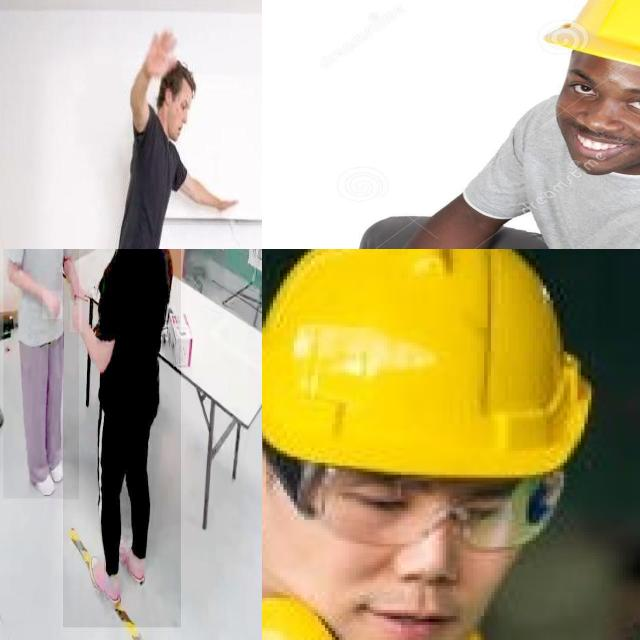Ear-protection: (262, 580, 532, 640)
No_Ear-Protection: (161, 81, 178, 114)
No_Glasses: (552, 60, 640, 130)
face_nomask: (173, 114, 196, 145)
glasses: (262, 425, 575, 556)
hand_noglove: (133, 28, 181, 85), (42, 290, 62, 320), (70, 279, 92, 304), (70, 300, 82, 334)
head_helmet: (262, 249, 603, 482)
person: (262, 249, 618, 640), (62, 249, 181, 628), (107, 27, 239, 249), (3, 249, 78, 499)
shoes: (109, 528, 150, 590), (87, 550, 124, 604), (27, 455, 55, 498), (45, 438, 69, 486)
